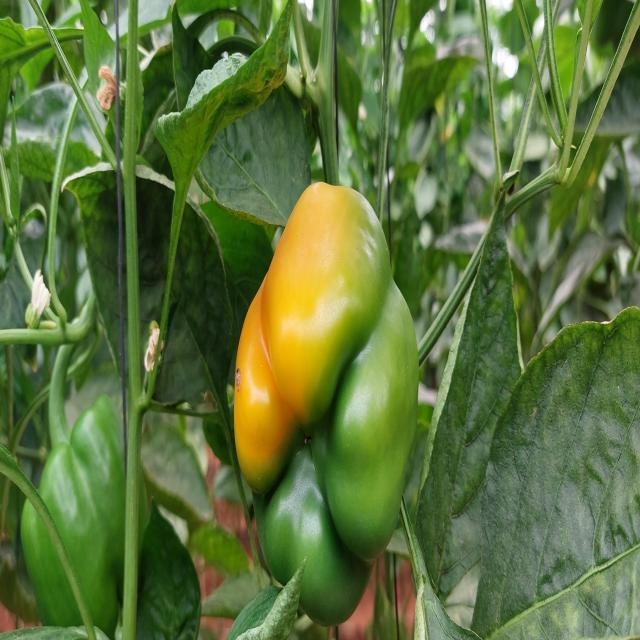Green--Not-ready-to-harvest: (17, 372, 157, 618)
GreenishYellow--Can-be-Harvested: (208, 161, 430, 622)
